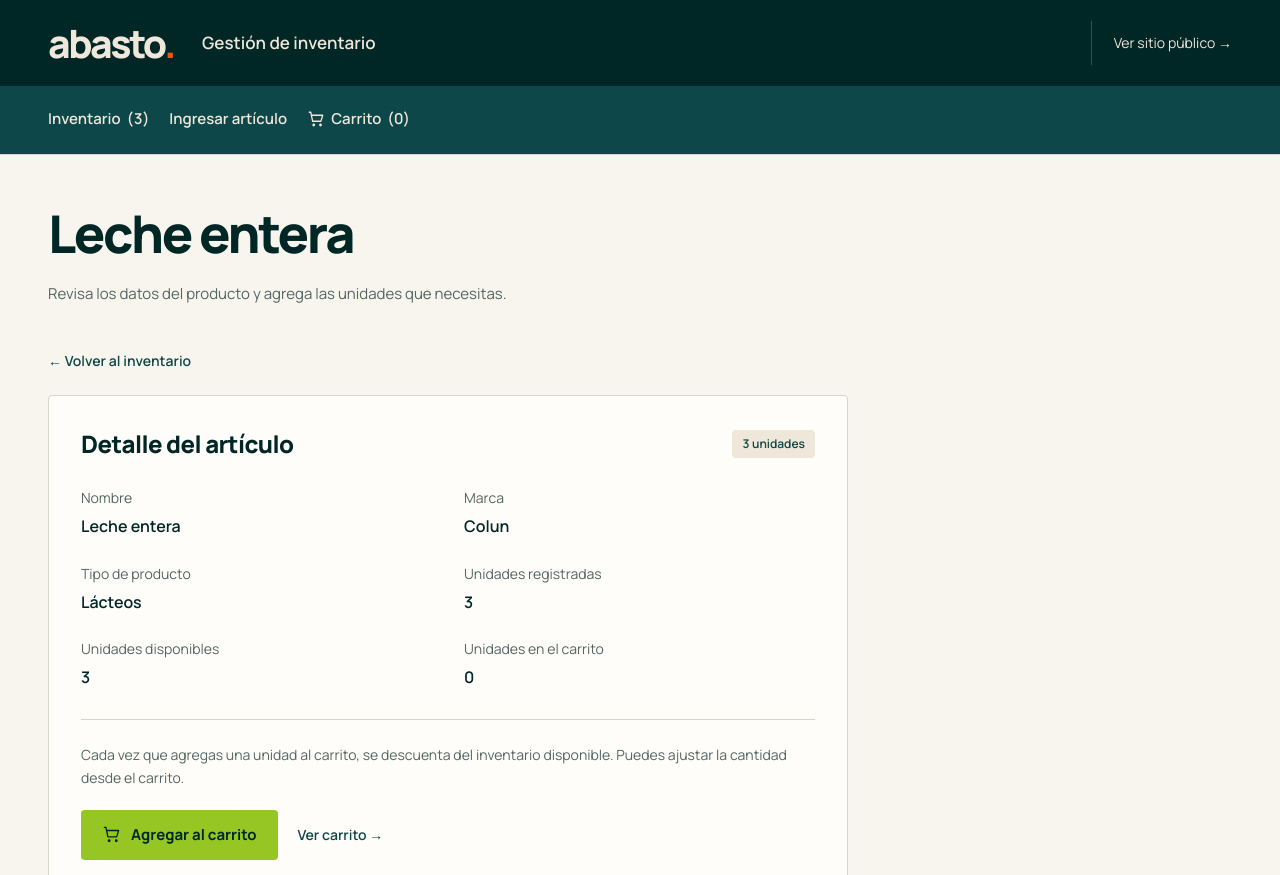
Scenario: Inventario y carrito › elimina la línea al disminuir su última unidad y restituye su disponibilidad
This screenshot has width=1280, height=875.
Click the button "Agregar al carrito" at (179, 834), box x1=81 y1=810 x2=278 y2=860
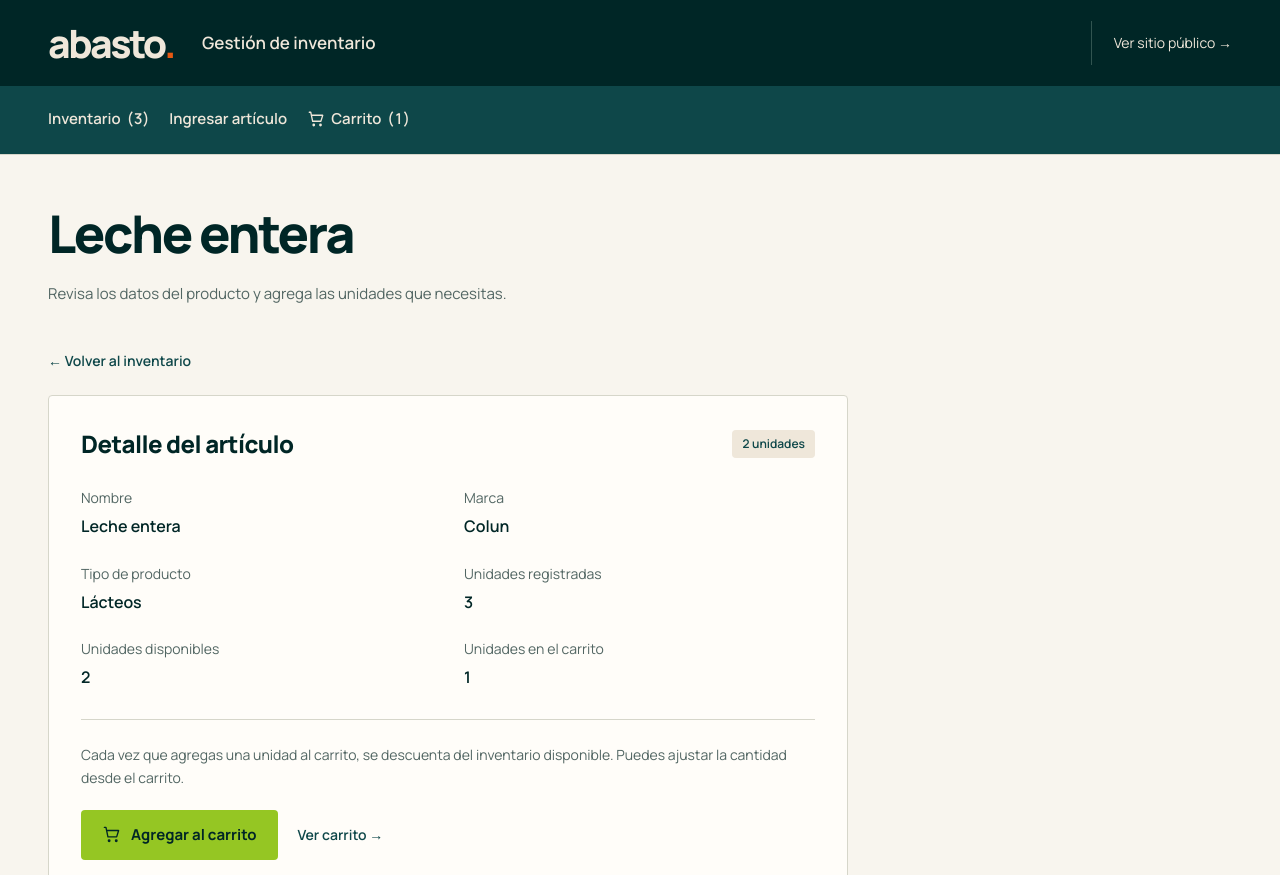
Click the link "Ver carrito →" at (340, 834), box x1=298 y1=824 x2=383 y2=844
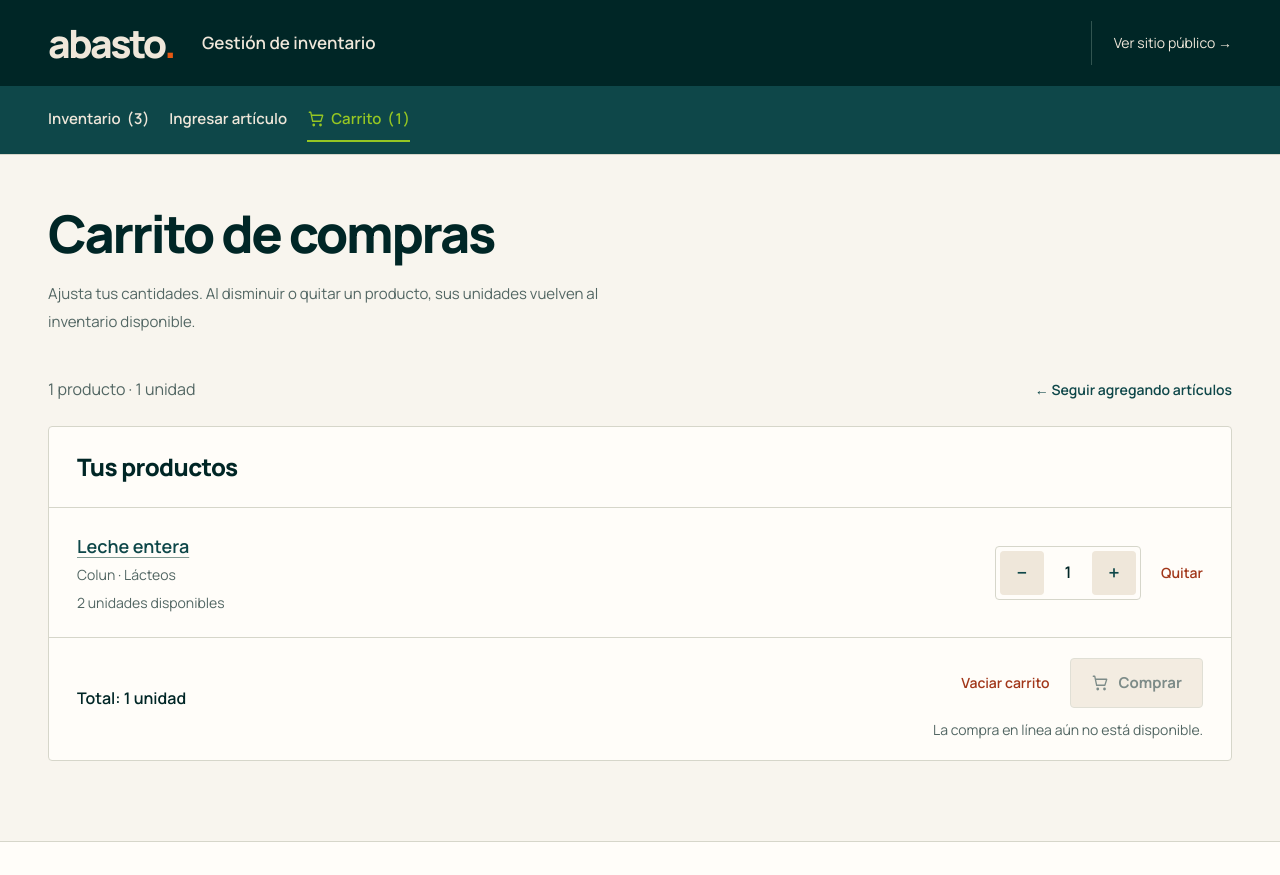
Expected: the heading "Carrito de compras" is shown, x1=48 y1=198 x2=494 y2=269
Click the button named "Disminuir cantidad de Leche entera" at (1022, 573), box x1=1000 y1=551 x2=1044 y2=595
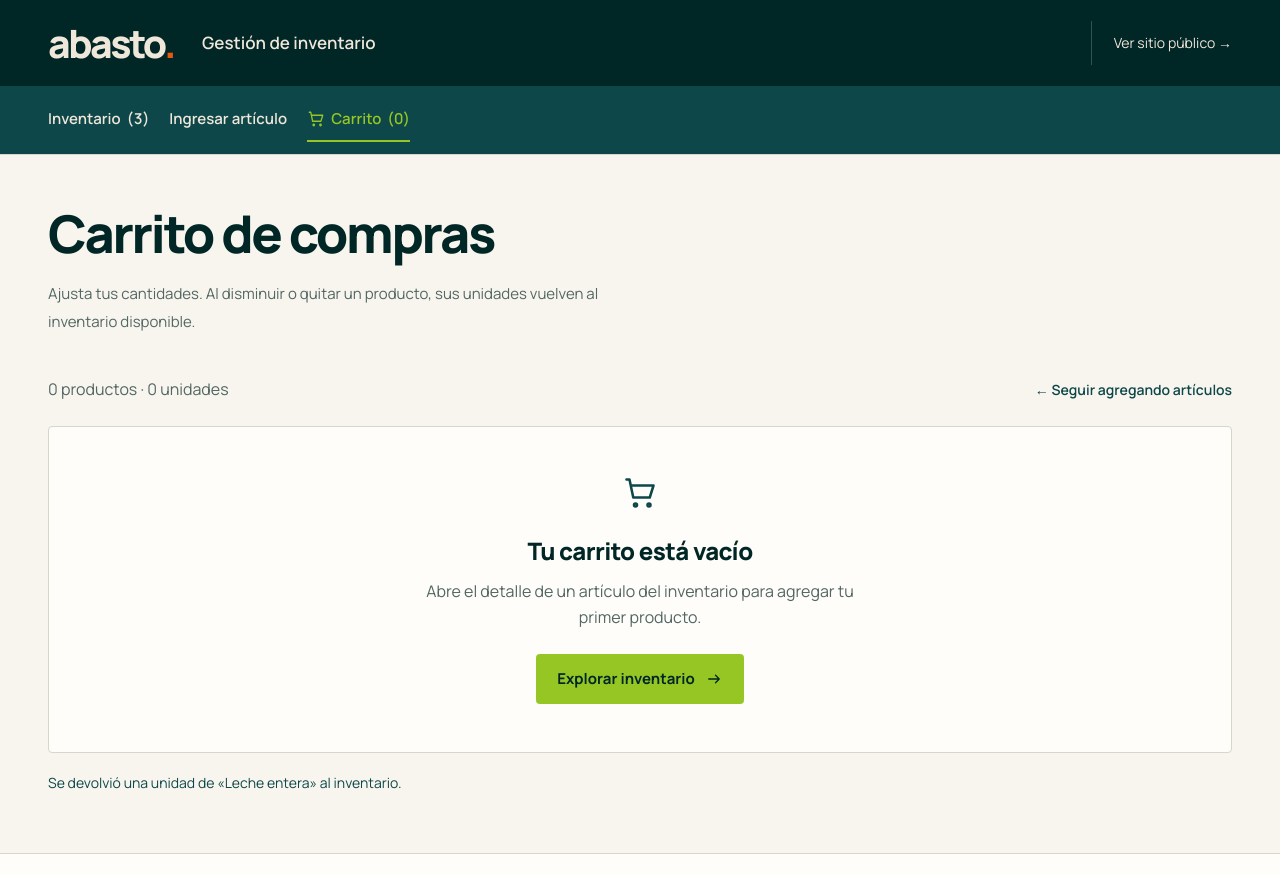
Expected: the heading "Tu carrito está vacío" is shown, x1=527 y1=534 x2=753 y2=567
Click the link "Inventario (3)" at (99, 119), box x1=48 y1=108 x2=149 y2=129
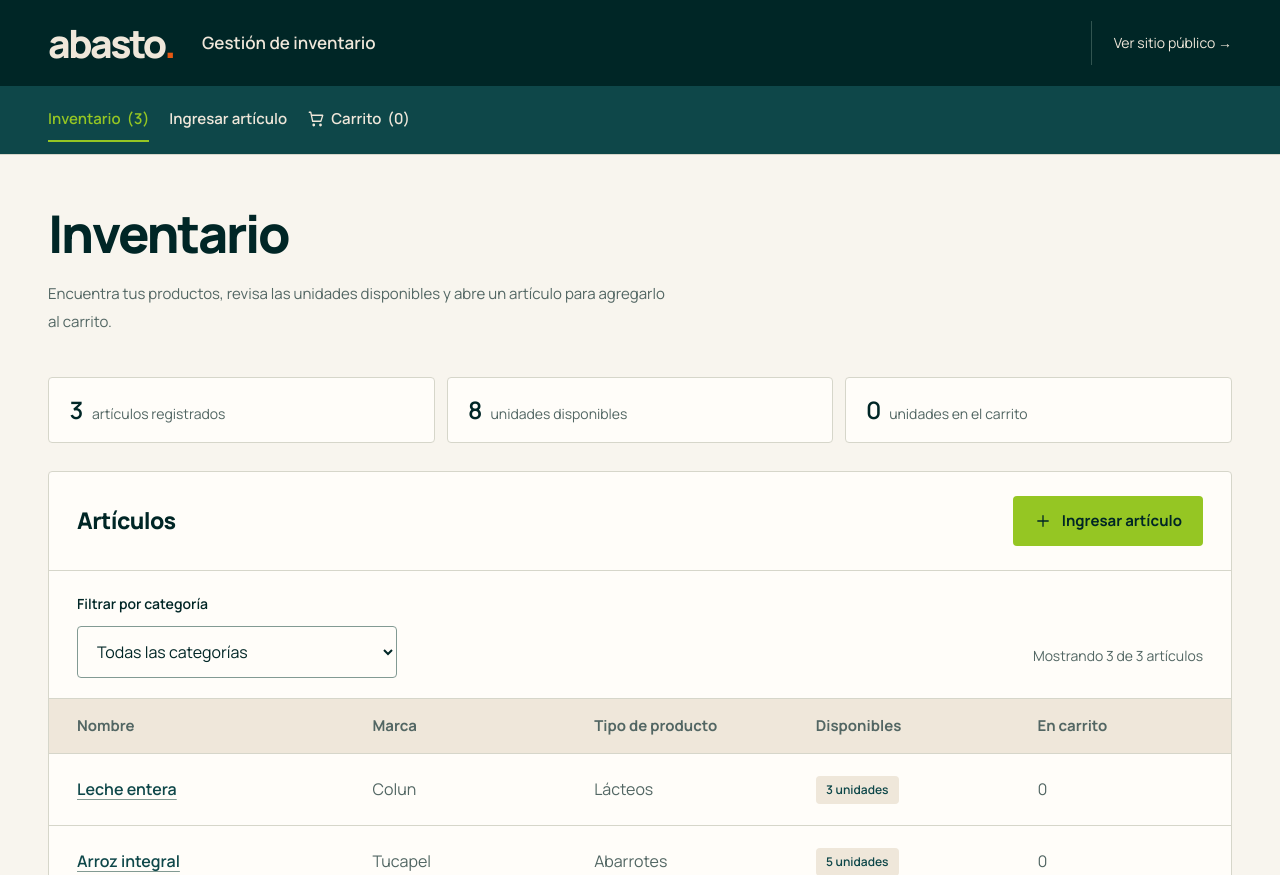
Expected: the text "3 unidades" is shown, x1=816 y1=776 x2=899 y2=804
